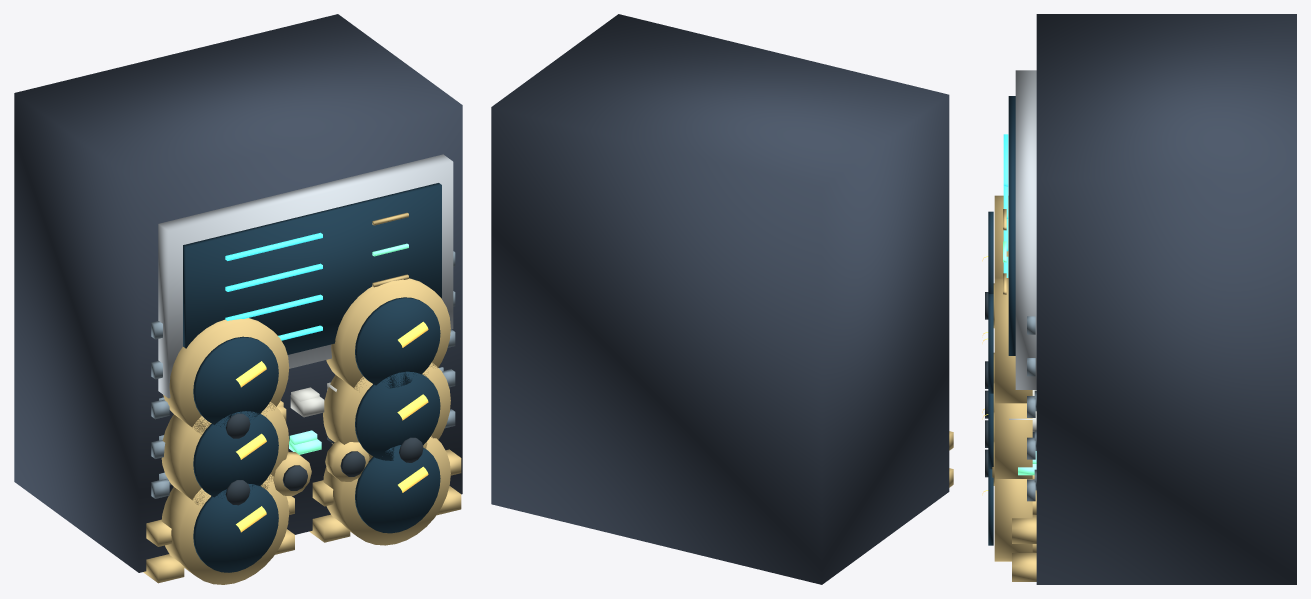
The model's file is 30_L92_AnchorLoadCellArray.glb.
3 views of the same model, side by side, from view 1: azimuth 30°, elevation 25°; view 2: azimuth 150°, elevation 25°; view 3: azimuth 270°, elevation 25° (orthographic). The views are drawn at different scales.
Visible parts, largest first — view 1: L92_AnchorLoadCellArray, L92_AnchorLoadCellArray_Part_0012, L92_AnchorLoadCellArray_Part_0017, L92_AnchorLoadCellArray_Part_0015; view 2: L92_AnchorLoadCellArray; view 3: L92_AnchorLoadCellArray.
Boxes of the visible parts, x1,y1,x2,y2 form: L92_AnchorLoadCellArray: [14, 14, 462, 584]; L92_AnchorLoadCellArray_Part_0012: [236, 321, 428, 532]; L92_AnchorLoadCellArray_Part_0017: [325, 440, 369, 481]; L92_AnchorLoadCellArray_Part_0015: [273, 451, 311, 495]; L92_AnchorLoadCellArray: [491, 14, 953, 584]; L92_AnchorLoadCellArray: [988, 14, 1296, 584].
Bounding box in the file's own units: 1.12 × 1.33 × 0.905.
